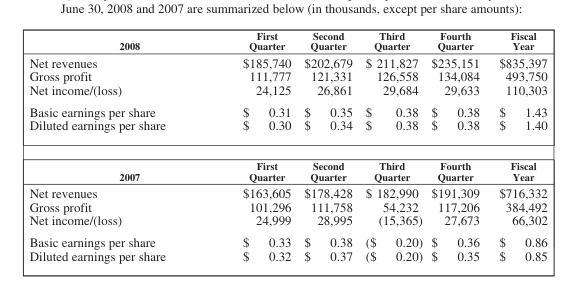table: (28, 29, 546, 262)
table column: (28, 29, 203, 262), (203, 29, 297, 262), (358, 29, 426, 262), (426, 29, 488, 262), (297, 29, 358, 262), (488, 29, 546, 262)
table column header: (28, 29, 546, 53)
table row: (28, 145, 546, 183), (28, 118, 546, 145), (28, 29, 546, 53), (28, 82, 546, 100), (28, 100, 546, 118), (28, 230, 546, 248), (28, 213, 546, 230), (28, 53, 546, 69), (28, 183, 546, 199), (28, 199, 546, 213), (28, 248, 546, 262), (28, 69, 546, 82)
